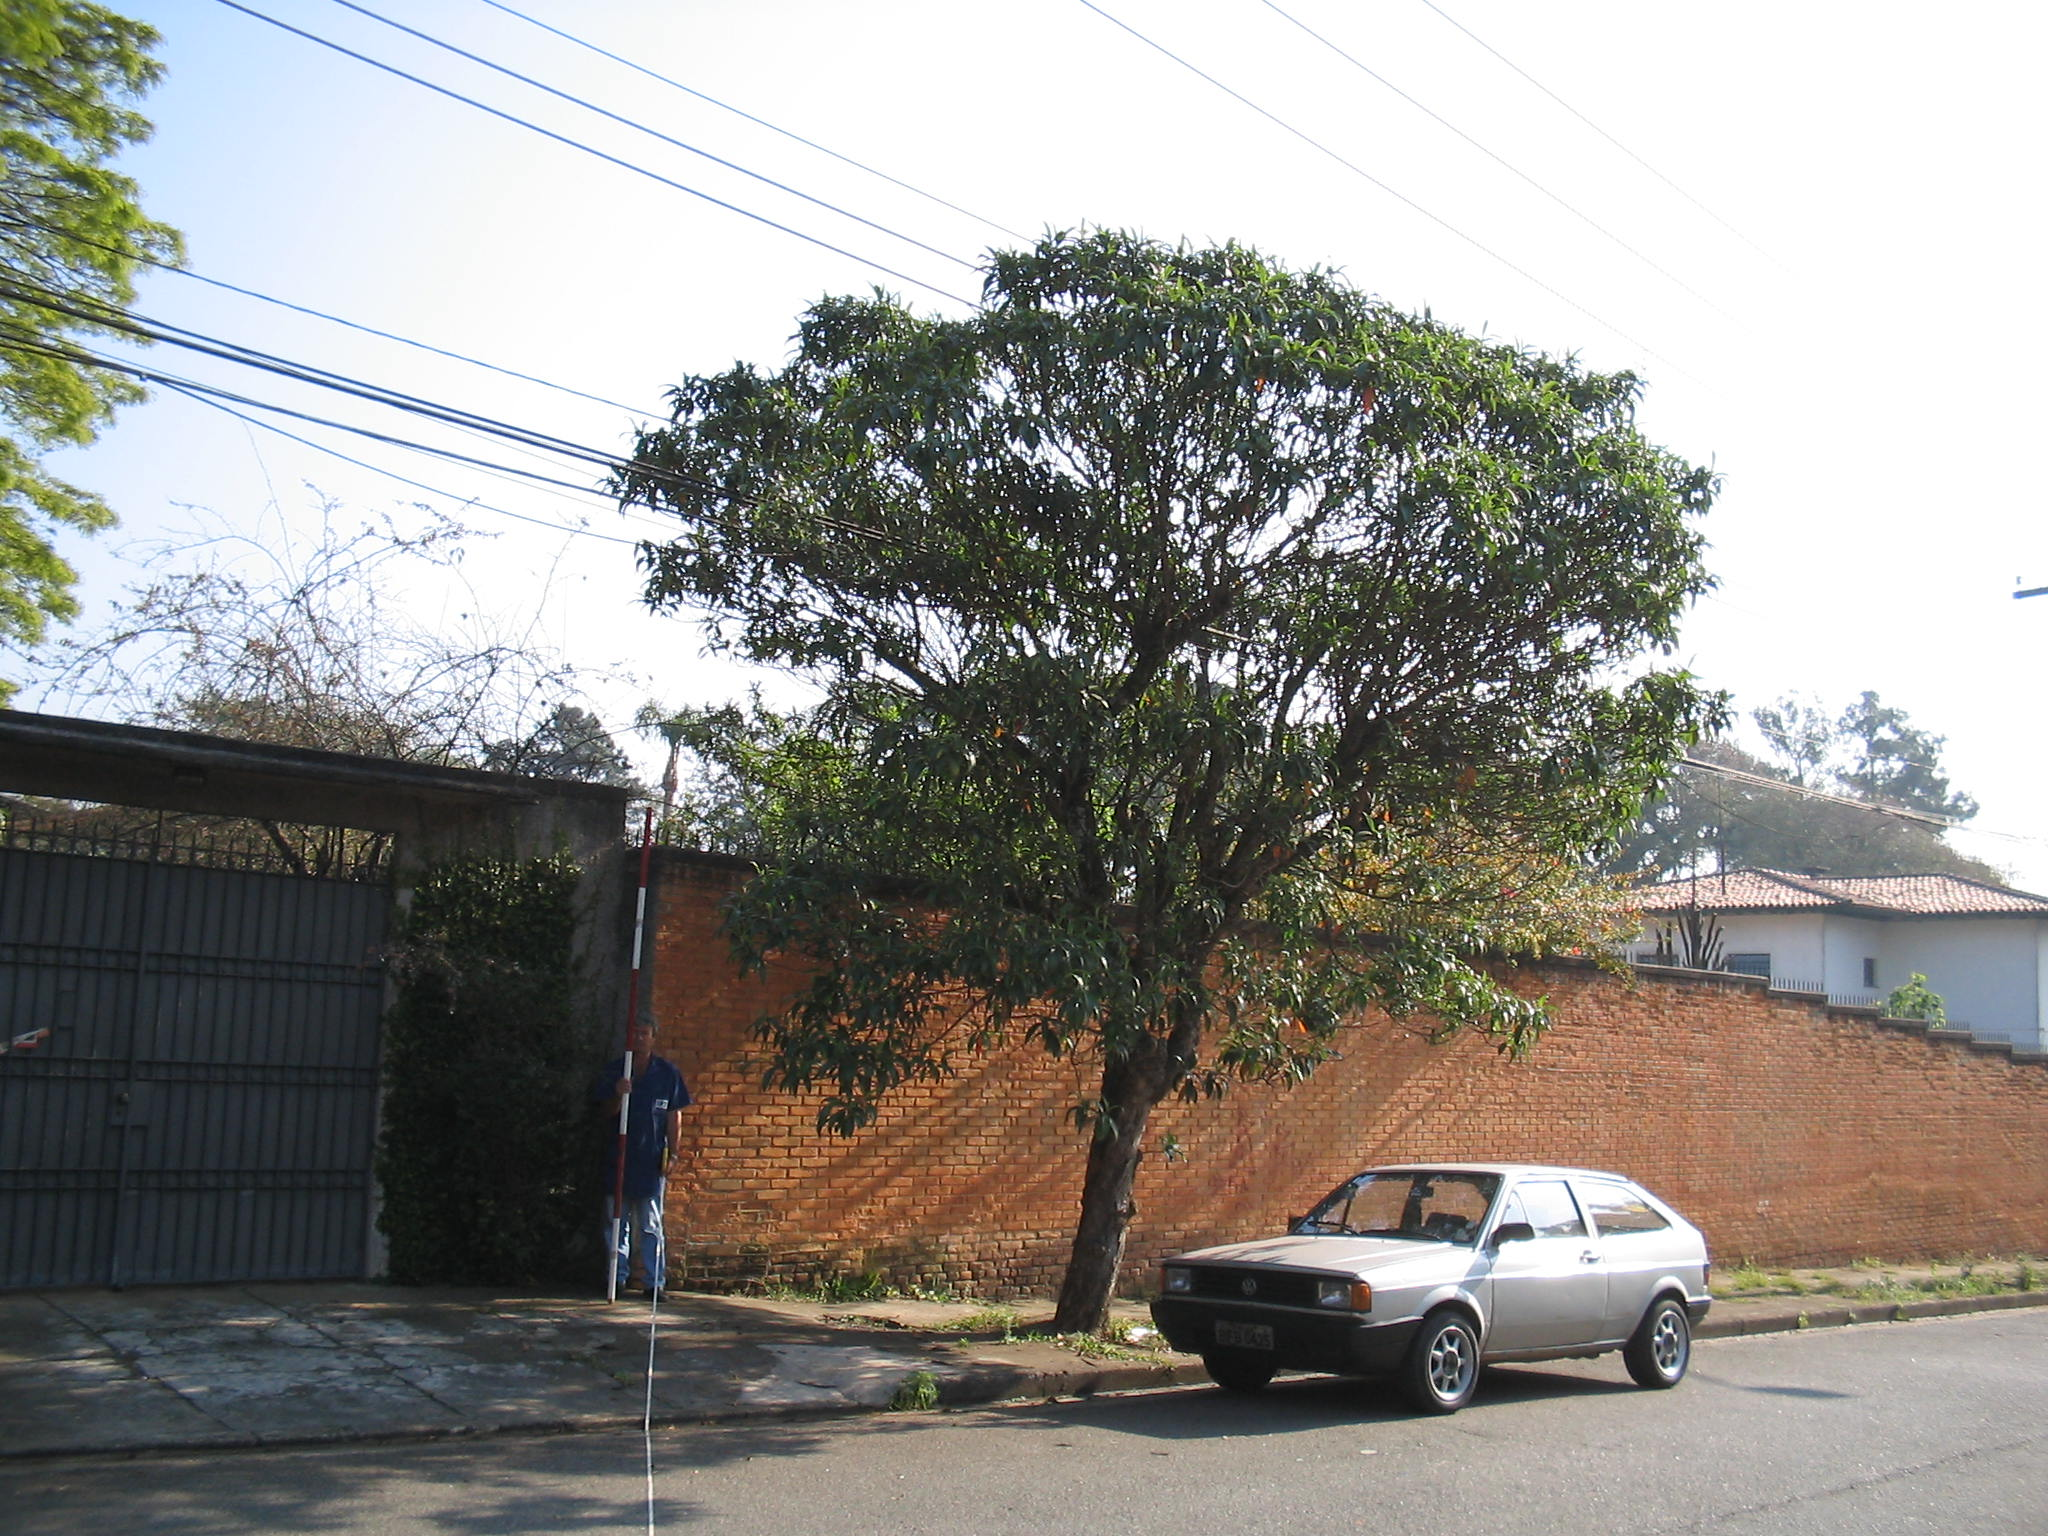crown: (606, 226, 1730, 1100)
stem: (1016, 1065, 1184, 1341)
stick: (587, 805, 674, 1300)
tree: (600, 224, 1738, 1346)
